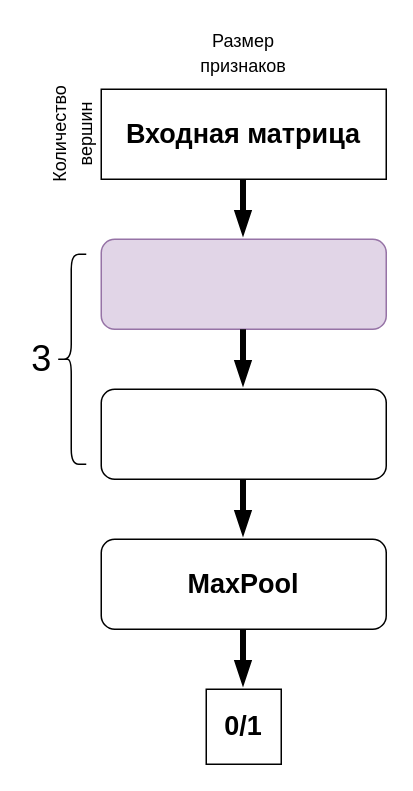
Image size: 413x791. Some labels were removed from this diagram. The shapes that lost their labels are listed below. From the top down, each one's centre as x and y in pixels, then its label:
[243,283]: GAT/GCN Layer
[243,433]: ReLU
